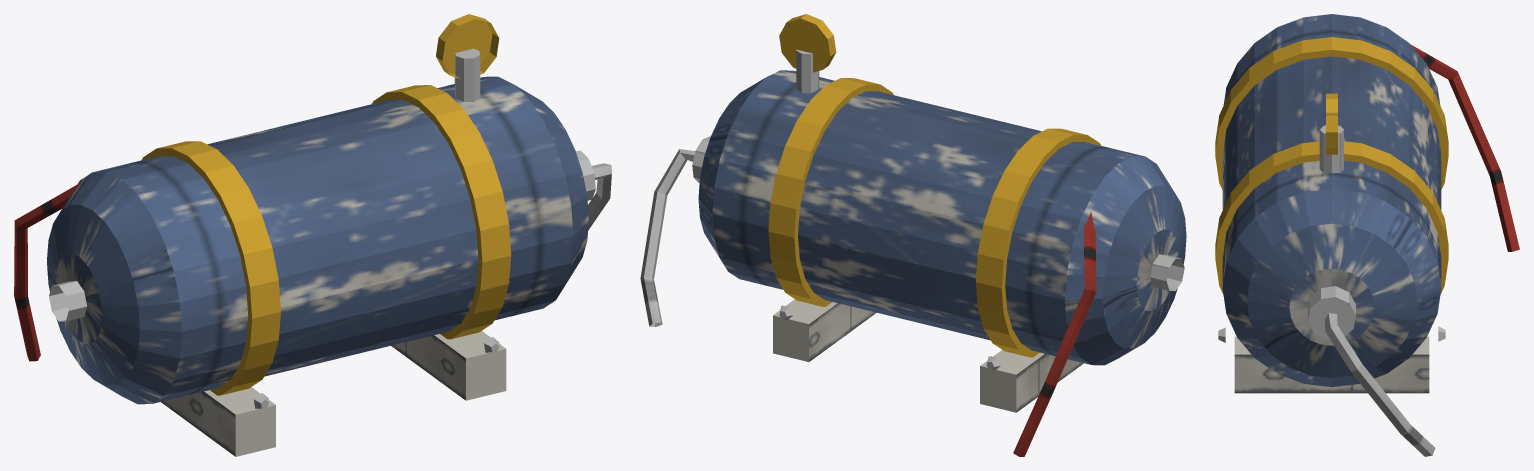
The model's file is part_gastank.fbx.
3 renders of one model, left to right at view 1: azimuth 30°, elevation 25°; view 2: azimuth 150°, elevation 25°; view 3: azimuth 270°, elevation 25°, orthographic. The views are drawn at different scales.
Visible parts, largest first — view 1: part_gastank; view 2: part_gastank; view 3: part_gastank.
Boxes of the visible parts, x1,y1,x2,y2 form: part_gastank: (14,14,611,456); part_gastank: (640,14,1186,456); part_gastank: (1215,14,1519,456).
Bounding box in the file's own units: 0.9817 × 0.5576 × 0.5008.
1 material, 1 textured.
